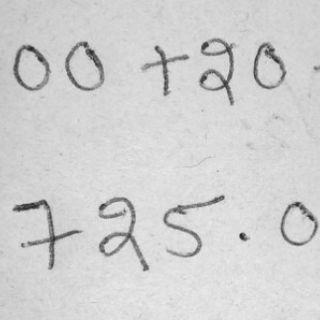.: (234, 229, 251, 244)
0: (62, 37, 106, 93), (12, 42, 52, 96), (249, 41, 289, 92), (278, 200, 319, 247)
2: (97, 195, 151, 275), (197, 37, 239, 106)
5: (163, 194, 225, 260)
7: (11, 197, 83, 271)
